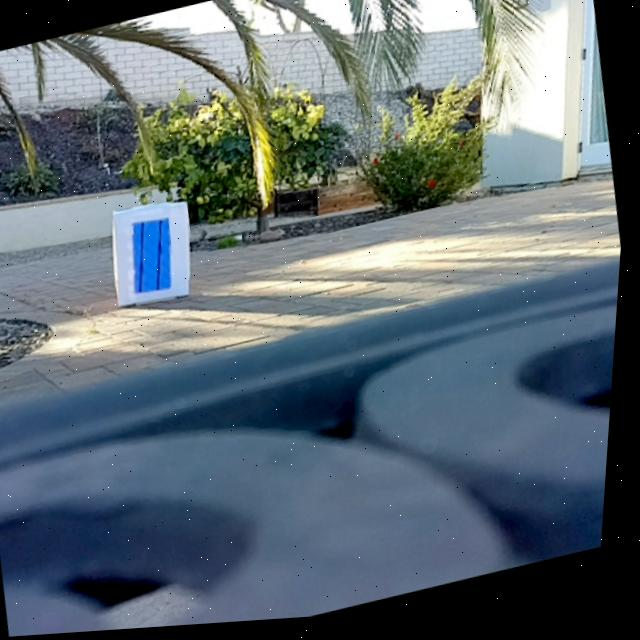led: (134, 219, 183, 299)
